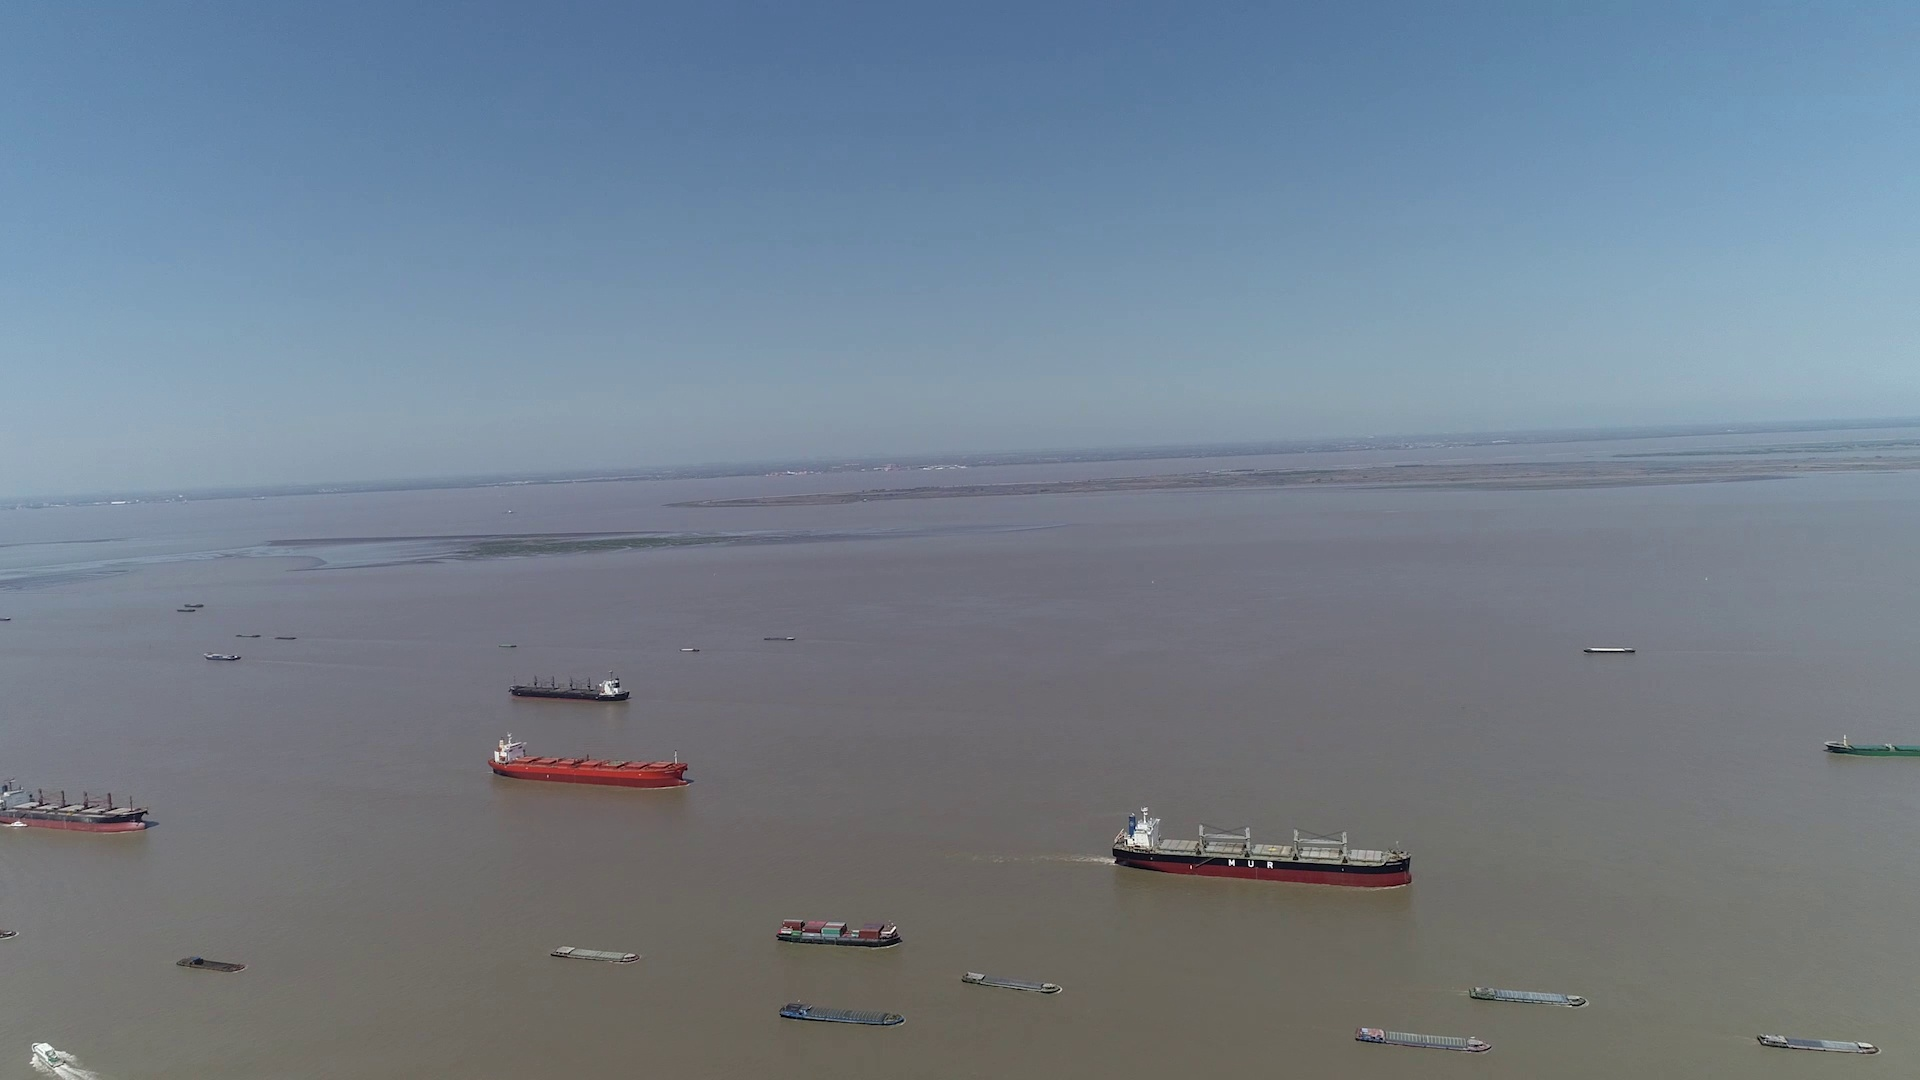ship: (1112, 804, 1415, 889), (489, 732, 688, 789), (0, 775, 150, 833), (774, 919, 902, 949), (1354, 1026, 1489, 1054), (506, 671, 626, 702), (777, 1001, 905, 1027), (1468, 982, 1588, 1007), (1756, 1031, 1879, 1055), (963, 971, 1062, 994), (1824, 737, 1920, 758), (549, 945, 640, 964), (28, 1044, 73, 1072), (175, 957, 247, 973), (1586, 646, 1635, 654), (204, 651, 243, 661), (0, 924, 15, 940)
